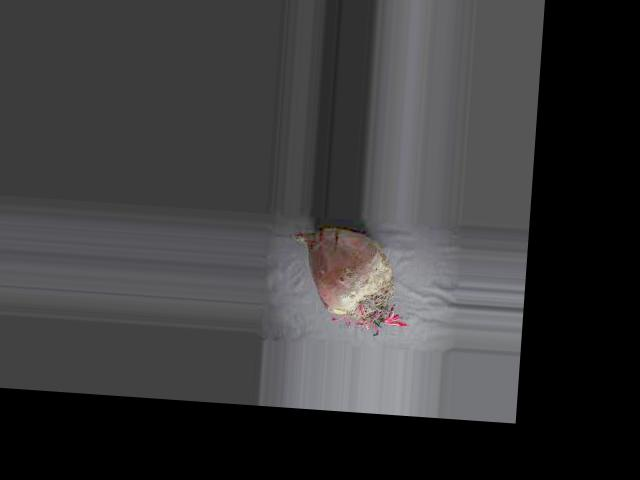beet: (286, 226, 414, 338)
